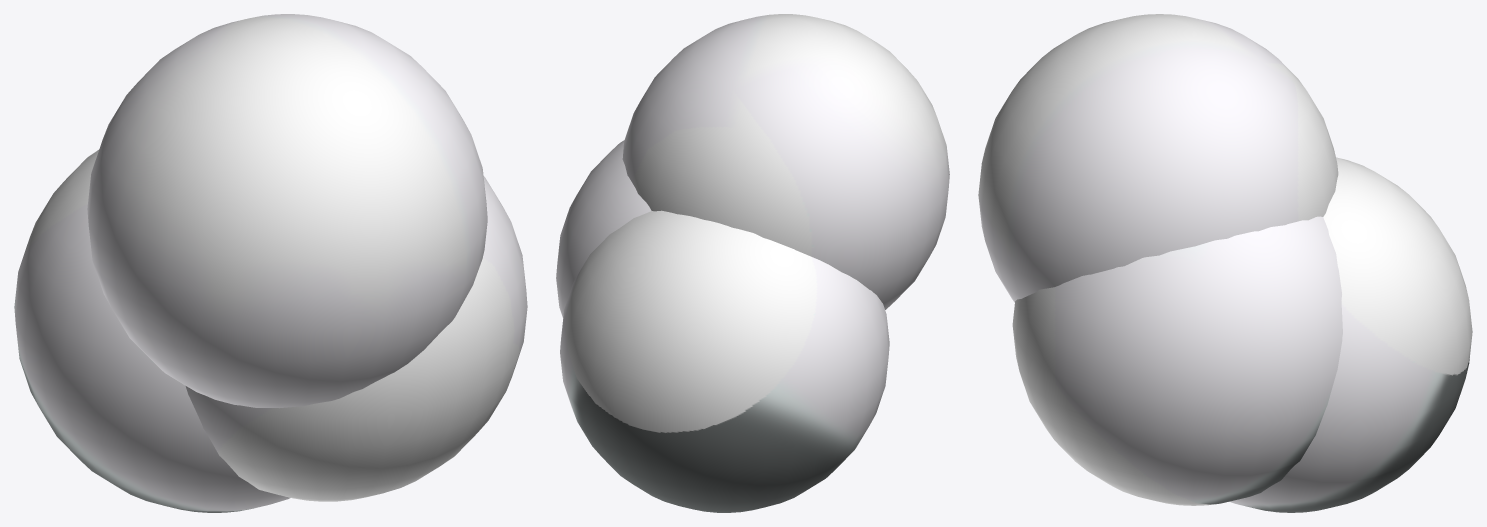
File: runcloud.fbx
3 renders of one model, left to right at view 1: azimuth 30°, elevation 25°; view 2: azimuth 150°, elevation 25°; view 3: azimuth 270°, elevation 25°, orthographic. The views are drawn at different scales.
Visible parts, largest first — view 1: Sphere.001; view 2: Sphere.001; view 3: Sphere.001.
Boxes of the visible parts, x1,y1,x2,y2 form: Sphere.001: (14, 14, 527, 512); Sphere.001: (556, 14, 949, 512); Sphere.001: (978, 14, 1472, 512).
Bounding box in the file's own units: 234 × 283 × 273.
